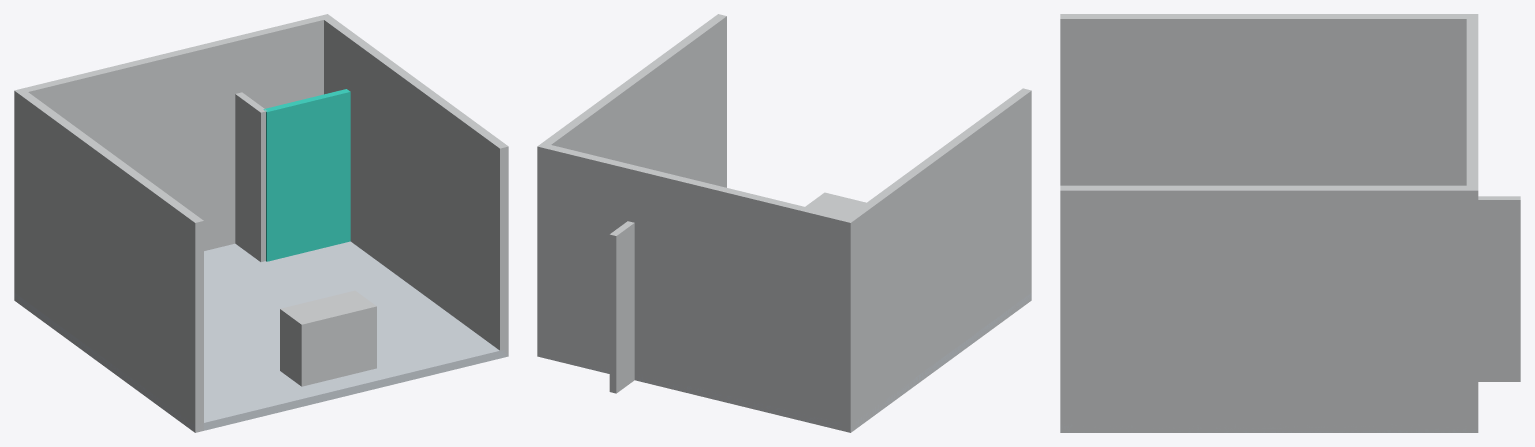
3 views of the same model, side by side, from view 1: azimuth 30°, elevation 25°; view 2: azimuth 150°, elevation 25°; view 3: azimuth 270°, elevation 25° (orthographic). The views are drawn at different scales.
Parts seen in each view (by area): view 1: Exhibition Booth Concept; view 2: Exhibition Booth Concept; view 3: Exhibition Booth Concept.
Part boxes in pixels (bbox=[...]): Exhibition Booth Concept: bbox=[14, 14, 508, 432]; Exhibition Booth Concept: bbox=[537, 14, 1031, 432]; Exhibition Booth Concept: bbox=[1060, 14, 1520, 432].
Size of the model in its own units: 5 by 3.2 by 5.51.
